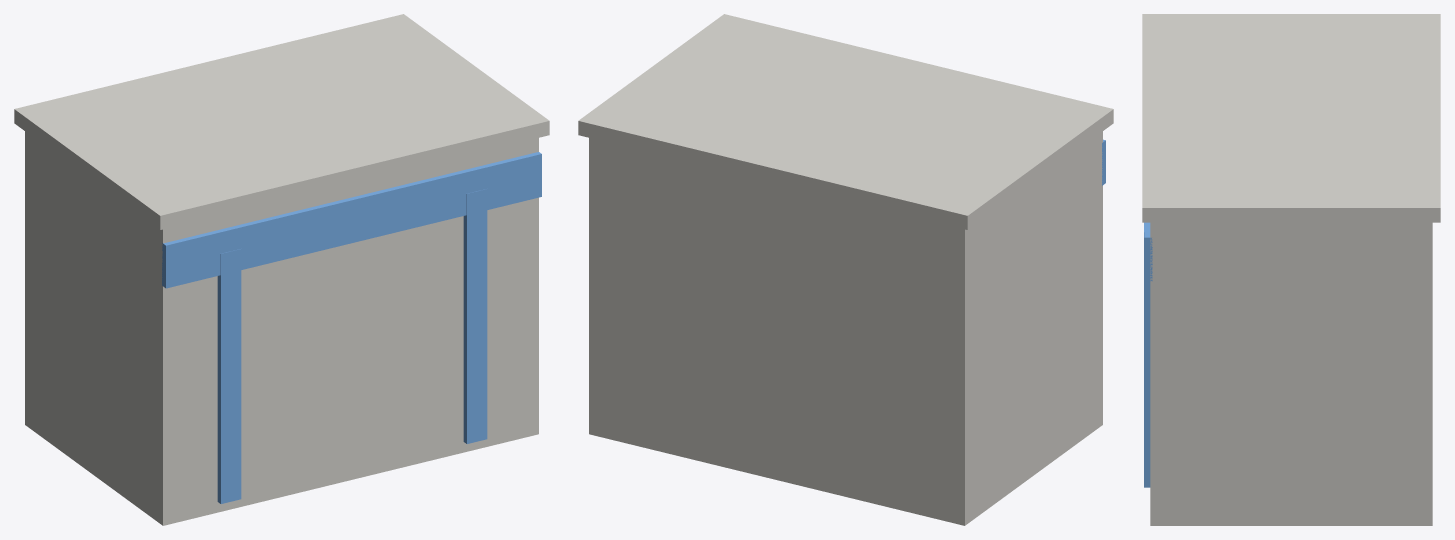
File: counter.glb
3 views of the same model, side by side, from view 1: azimuth 30°, elevation 25°; view 2: azimuth 150°, elevation 25°; view 3: azimuth 270°, elevation 25° (orthographic). The views are drawn at different scales.
Parts seen in each view (by area): view 1: Counter; view 2: Counter; view 3: Counter.
Part boxes in pixels (x1,y1,x2,y2): Counter: (14,14,549,525); Counter: (578,14,1113,525); Counter: (1142,14,1440,525).
Bounding box in the file's own units: 1.14 × 0.88 × 0.74.
